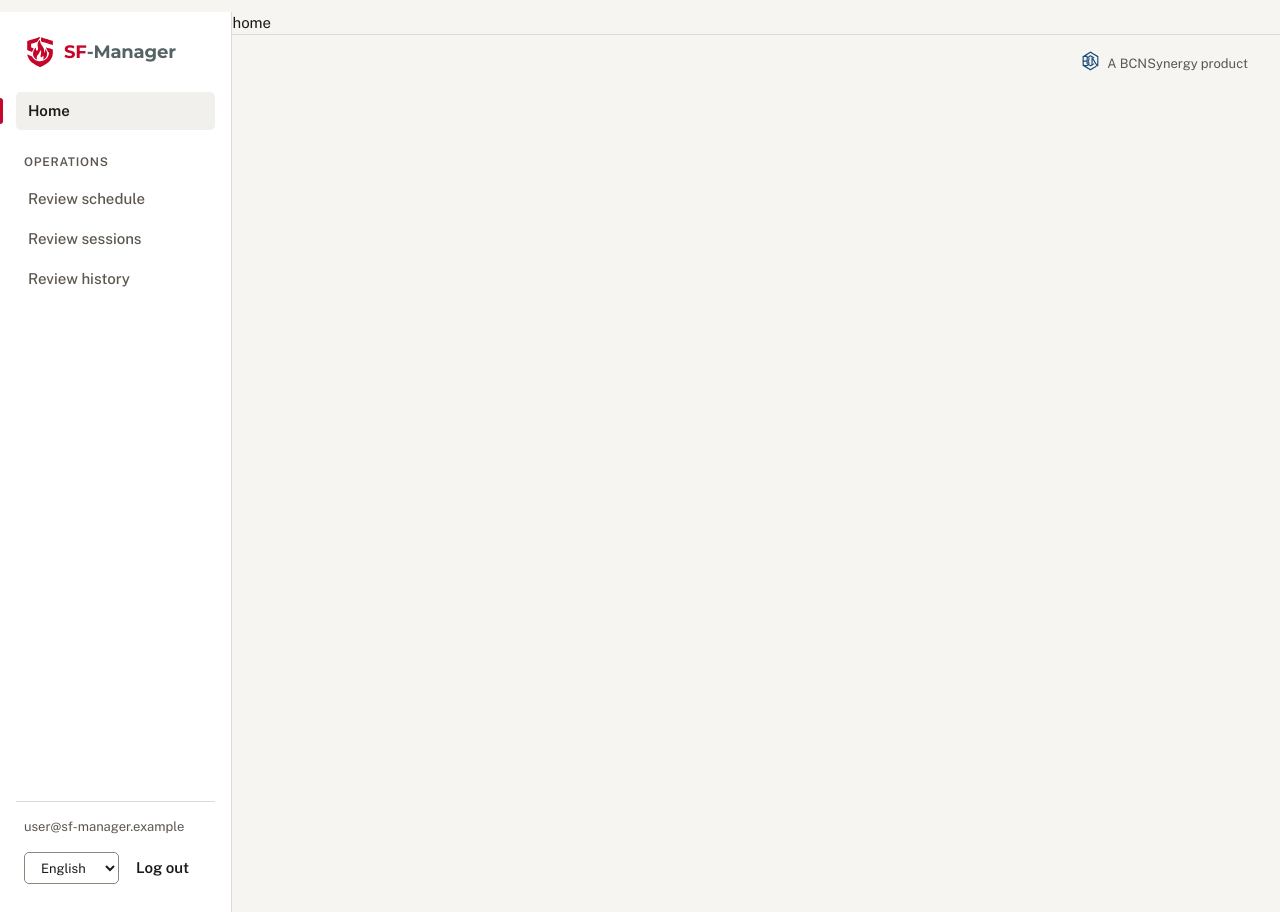
AppLayout › review schedule item › leads to the page, never to the not-authorized view
Click the link with test id "nav-link-review-schedule" at (87, 198), box [28,190,145,207]
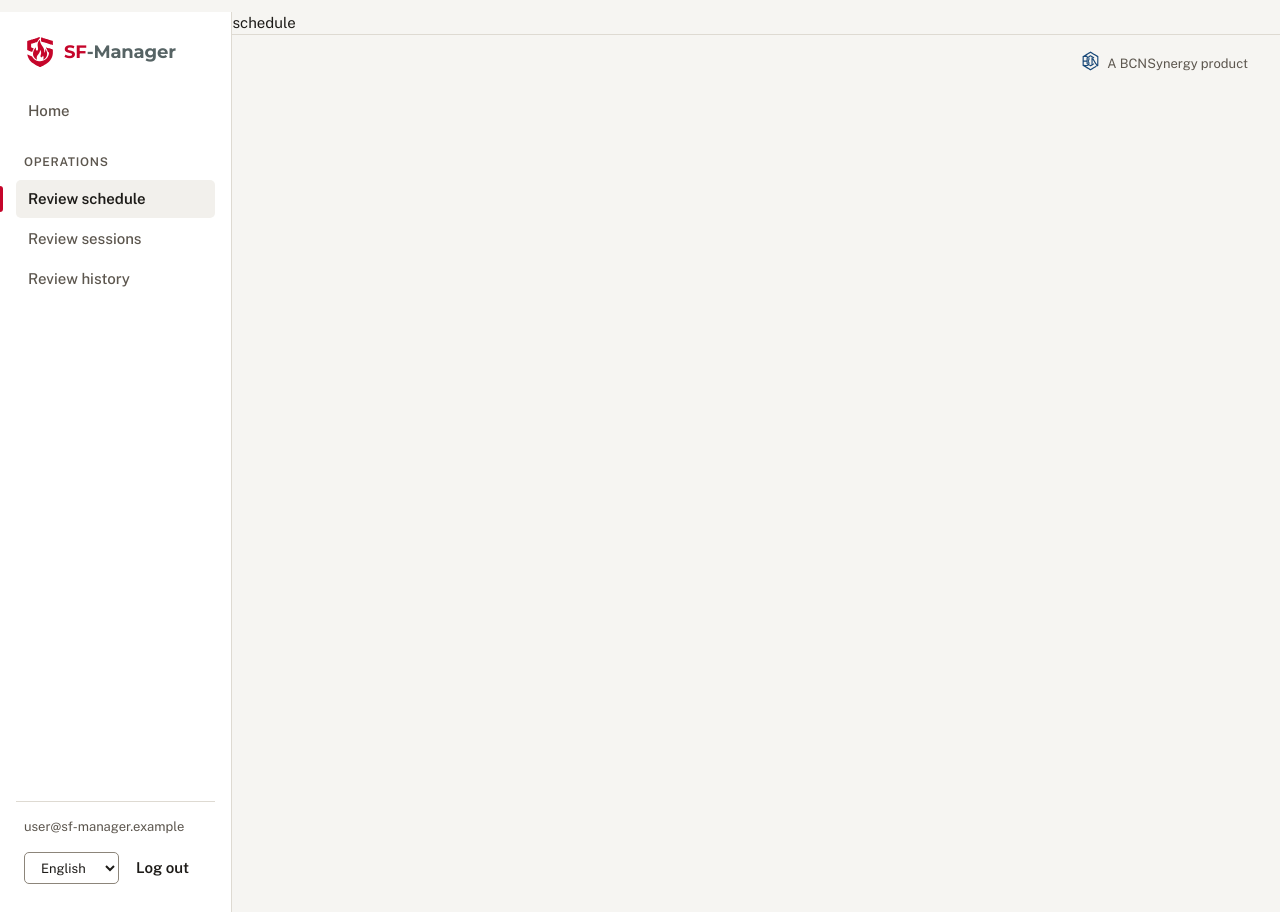
Result: the text "schedule" is shown at [232,14,296,31]
